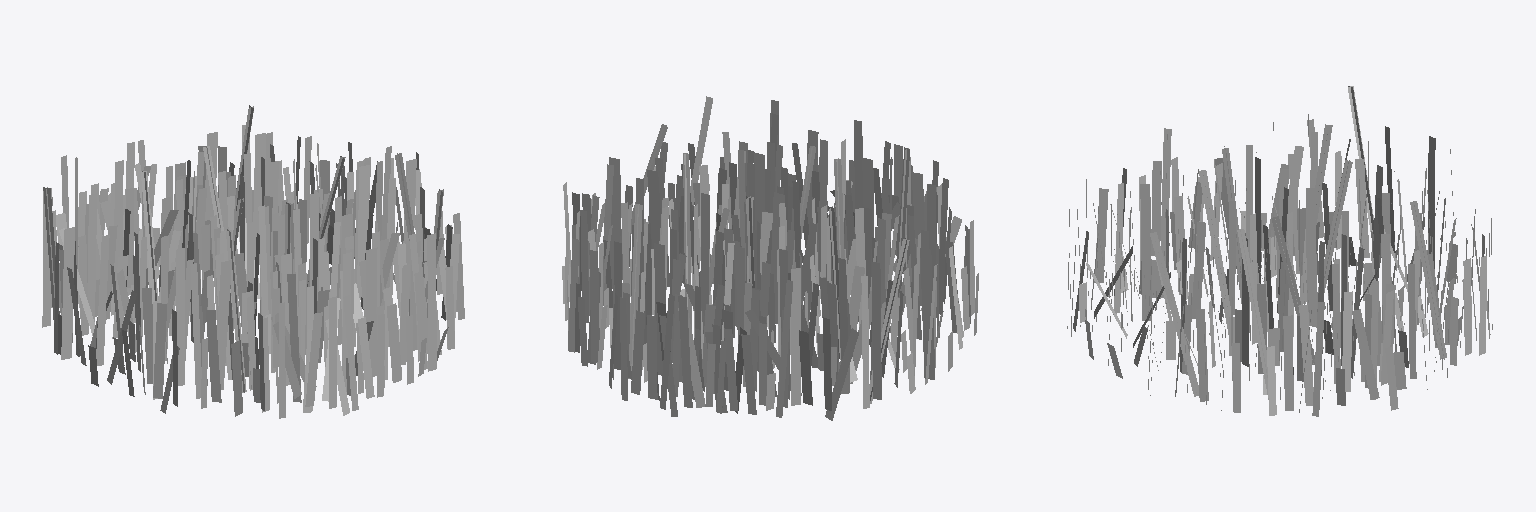
The model's file is grass.obj.
3 renders of one model, left to right at view 1: azimuth 30°, elevation 25°; view 2: azimuth 150°, elevation 25°; view 3: azimuth 270°, elevation 25°, orthographic.
Parts seen in each view (by area): view 1: Trava_Kolosok; view 2: Trava_Kolosok; view 3: Trava_Kolosok.
Boxes of the visible parts, box(x1,y1,x2,y2) form: Trava_Kolosok: box(42, 105, 464, 418); Trava_Kolosok: box(562, 96, 978, 420); Trava_Kolosok: box(1067, 86, 1492, 416).
Size of the model in its own units: 0.7802 by 0.3609 by 0.7831.